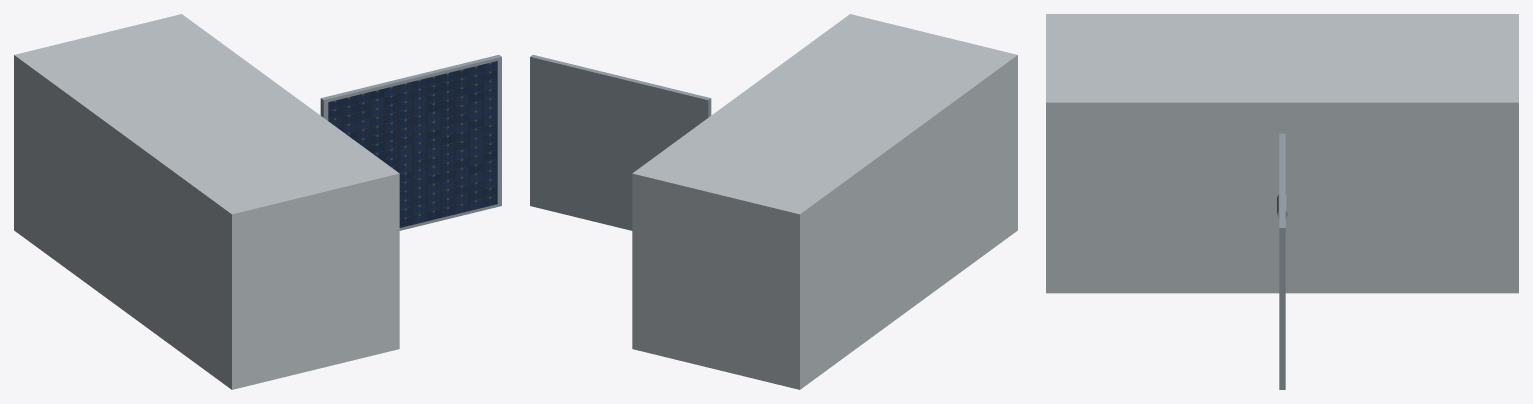
The model's file is ref-pulsar-64541.glb.
3 renders of one model, left to right at view 1: azimuth 30°, elevation 25°; view 2: azimuth 150°, elevation 25°; view 3: azimuth 270°, elevation 25°, orthographic. The views are drawn at different scales.
Visible parts, largest first — view 1: Spacecraft body, Photovoltaic laminates, Array frame; view 2: Spacecraft body, Array frame; view 3: Spacecraft body, Array frame.
Part boxes in pixels (box(x1,y1,x2,y2)): Spacecraft body: box(14, 14, 399, 389); Photovoltaic laminates: box(328, 61, 497, 227); Array frame: box(320, 55, 501, 230); Spacecraft body: box(632, 14, 1017, 389); Array frame: box(530, 55, 711, 230); Spacecraft body: box(1046, 14, 1518, 293); Array frame: box(1279, 133, 1285, 389).
Size of the model in its own units: 1.8 by 0.8 by 1.8.
Materials: 3 (1 with a texture image).
